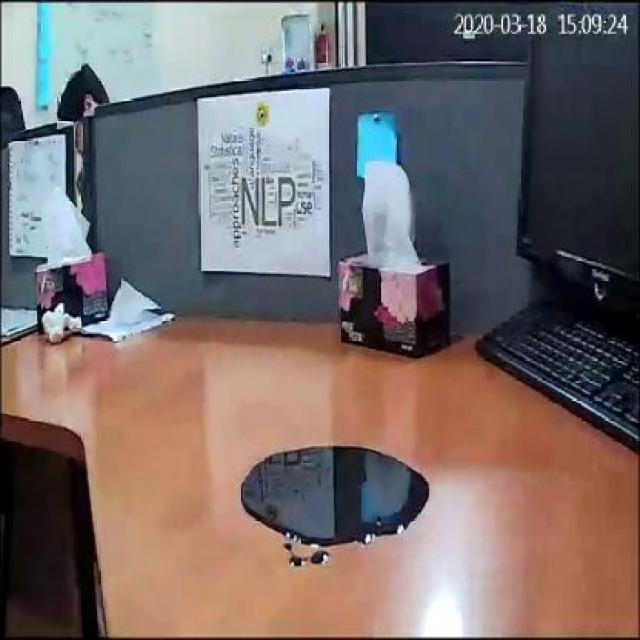spill: (237, 444, 431, 552)
